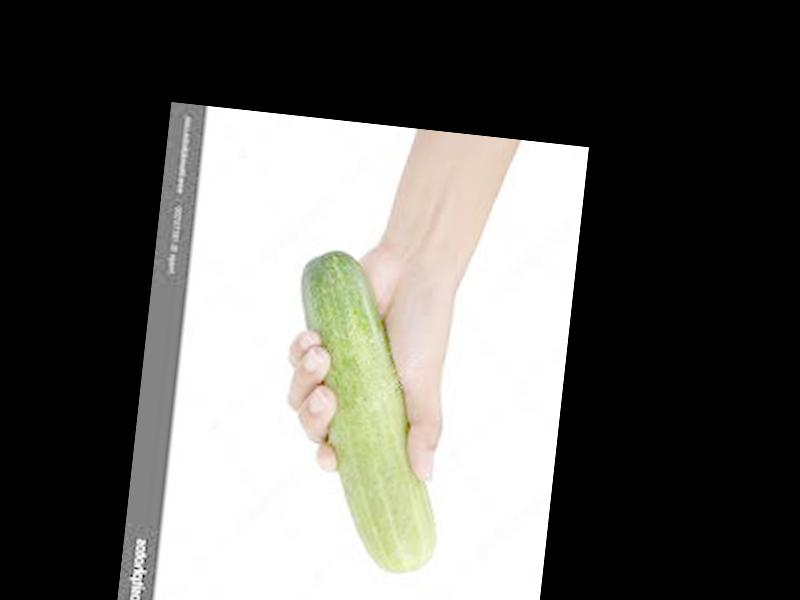Cucumber: (273, 247, 468, 575)
